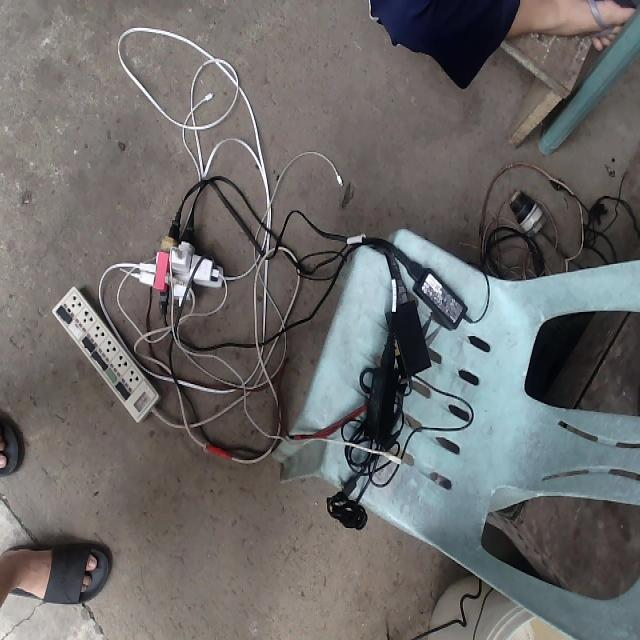-: (133, 220, 221, 308)
